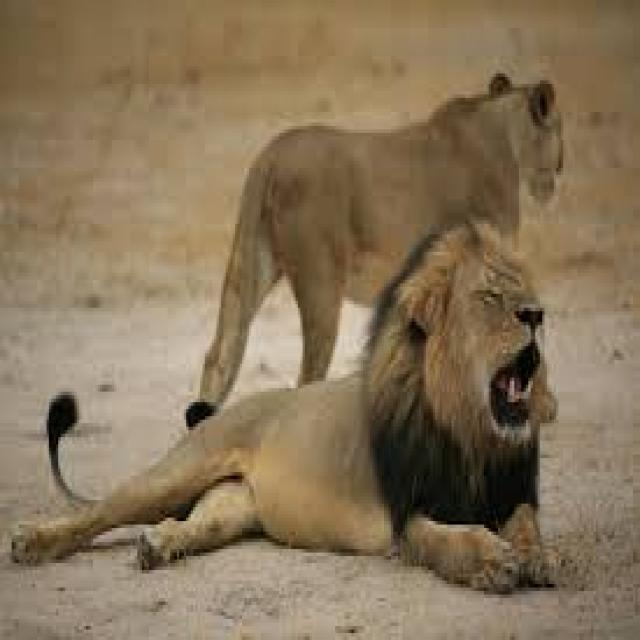Lion: (9, 226, 558, 596)
